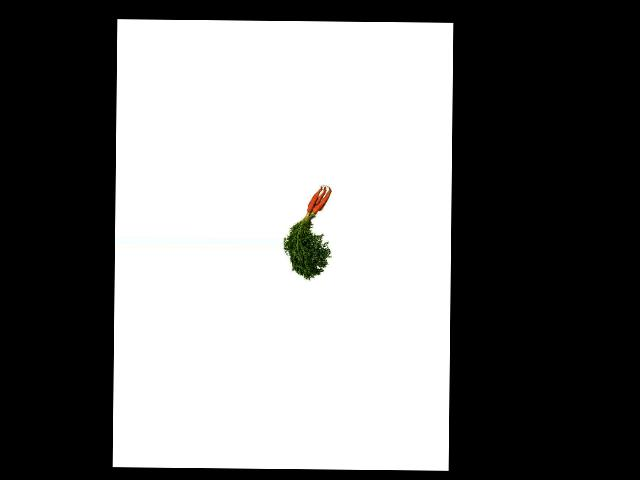carrot: (312, 190, 331, 215)
